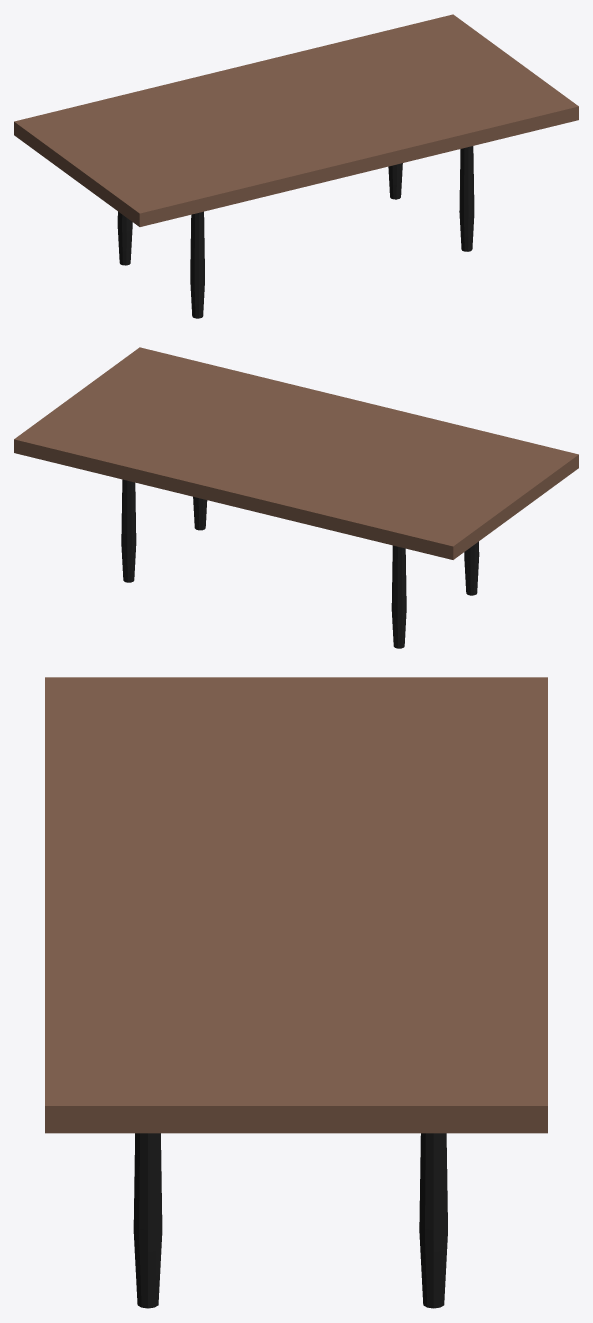
File: tvTable.fbx
3 renders of one model, top to bottom at view 1: azimuth 30°, elevation 25°; view 2: azimuth 150°, elevation 25°; view 3: azimuth 270°, elevation 25°, orthographic. The views are drawn at different scales.
Visible parts, largest first — view 1: Sofa_Table; view 2: Sofa_Table; view 3: Sofa_Table.
Part boxes in pixels (x1,y1,x2,y2): Sofa_Table: (14,14,578,318); Sofa_Table: (14,347,578,648); Sofa_Table: (45,677,547,1308).
Size of the model in its own units: 490 by 150 by 243.
